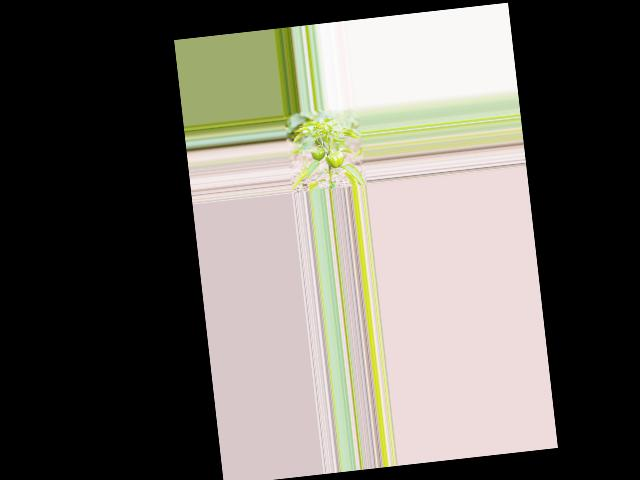bell_pepper: (310, 146, 326, 162)
